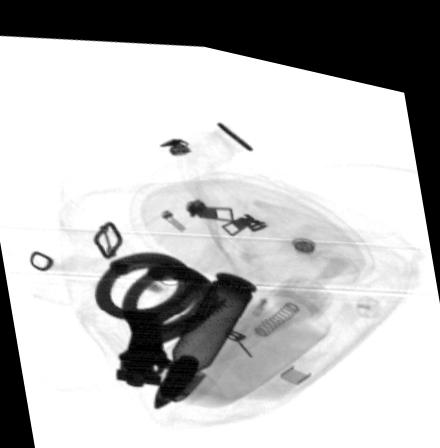Bullet: (153, 258, 259, 401)
HandCuffs: (92, 244, 230, 382)
